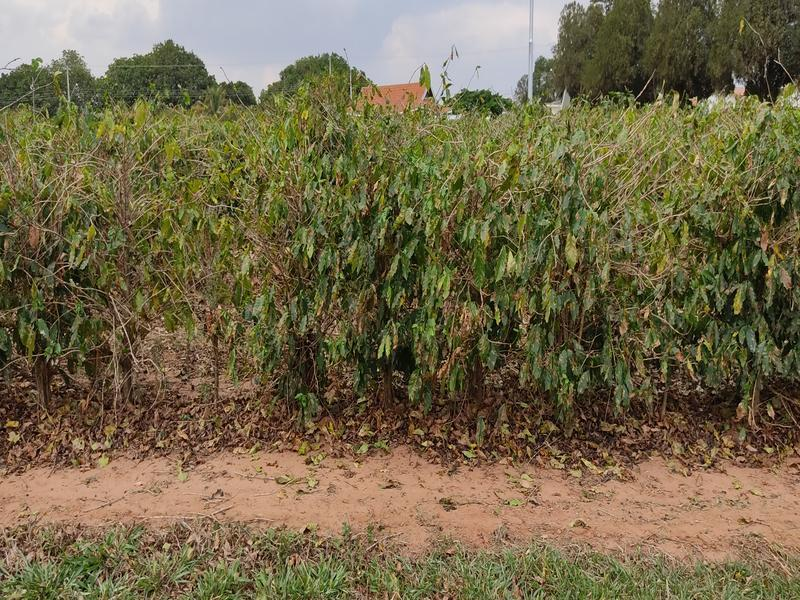coffee: (675, 113, 799, 433), (411, 110, 530, 421), (1, 106, 95, 439), (258, 105, 353, 418), (81, 113, 175, 416), (339, 109, 427, 419), (166, 127, 258, 423), (519, 129, 602, 429), (596, 135, 679, 426)
